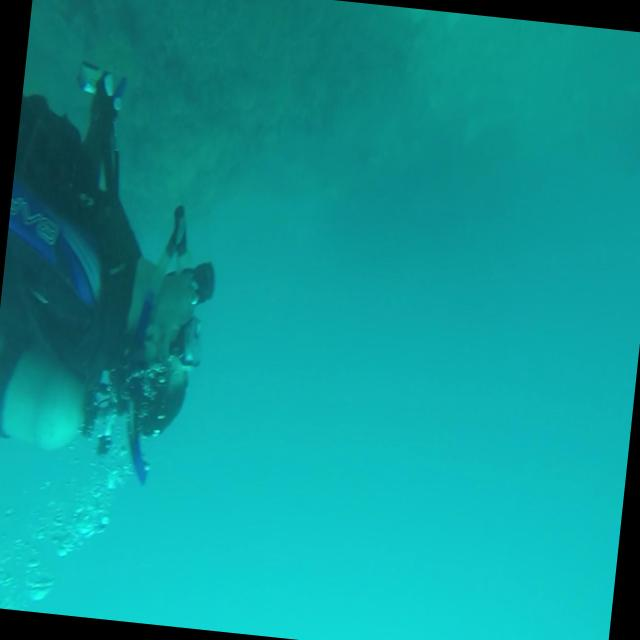human: (0, 55, 238, 478)
